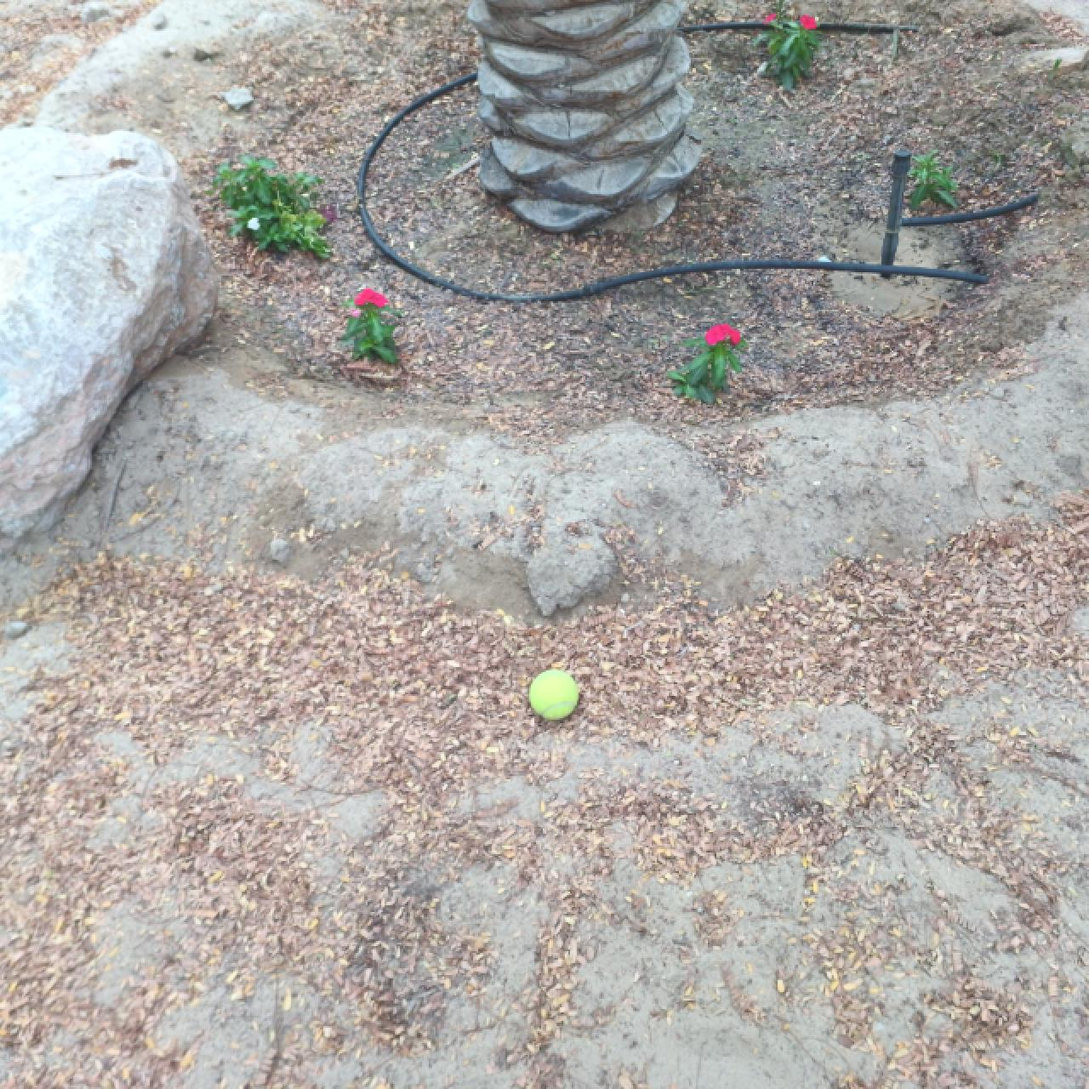tennis-ball: (527, 665, 580, 721)
